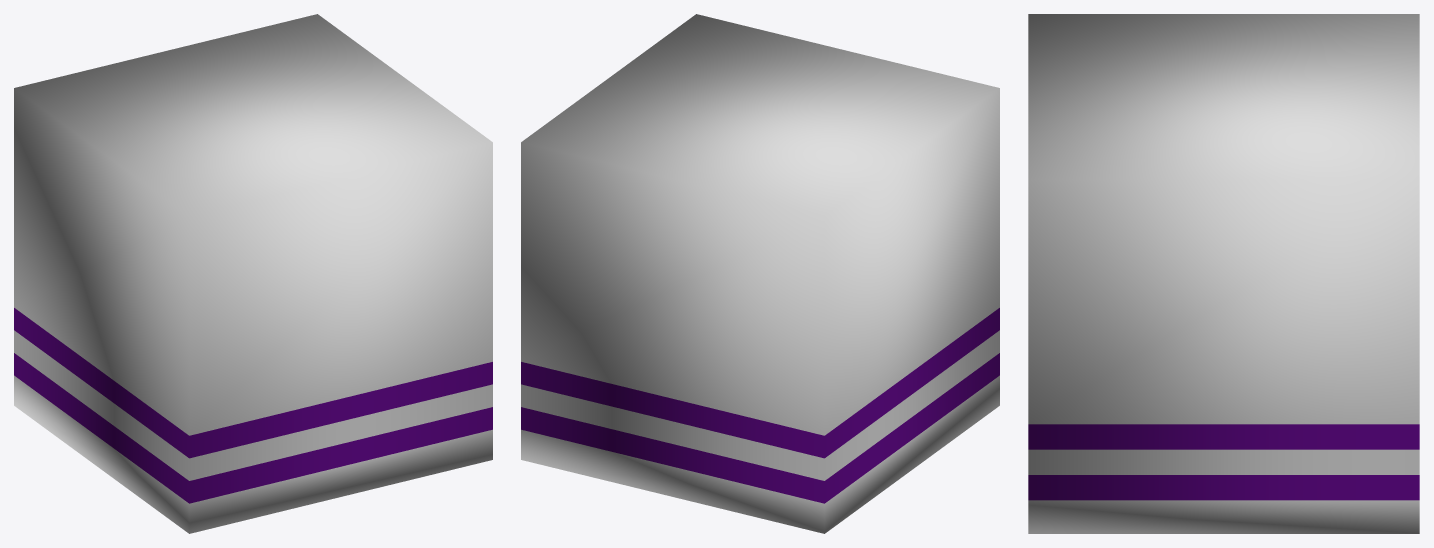
Rendered from CubeRayasFinal.fbx.
3 renders of one model, left to right at view 1: azimuth 30°, elevation 25°; view 2: azimuth 150°, elevation 25°; view 3: azimuth 270°, elevation 25°, orthographic. The views are drawn at different scales.
Parts seen in each view (by area): view 1: CubeRayas, RayasCube; view 2: CubeRayas, RayasCube; view 3: CubeRayas, RayasCube.
Boxes of the visible parts, box(x1,y1,x2,y2) form: CubeRayas: box(14, 14, 492, 533); RayasCube: box(14, 308, 492, 503); CubeRayas: box(521, 14, 999, 533); RayasCube: box(521, 308, 999, 503); CubeRayas: box(1028, 14, 1419, 533); RayasCube: box(1028, 424, 1419, 500).
Bounding box in the file's own units: 100 × 100 × 100.
